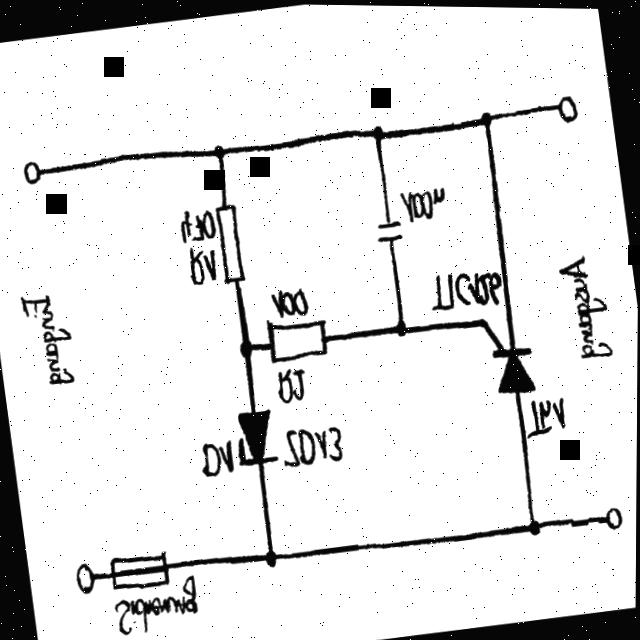capacitor: (373, 215, 407, 246)
diode: (231, 405, 281, 468)
junction: (237, 336, 255, 358), (393, 315, 410, 338), (263, 546, 279, 569), (526, 514, 543, 535), (478, 107, 494, 127), (212, 142, 227, 160), (369, 123, 384, 141)
resistor: (264, 313, 331, 364), (212, 200, 249, 286)
terminal: (72, 558, 100, 597), (554, 88, 581, 124), (602, 500, 628, 532), (19, 158, 44, 188)
text: (556, 249, 616, 361), (18, 288, 79, 390), (111, 571, 204, 637), (425, 262, 504, 312), (279, 420, 346, 470), (397, 181, 450, 224), (521, 392, 569, 438), (197, 436, 237, 479), (177, 204, 218, 245), (185, 243, 220, 286), (274, 364, 310, 405), (269, 284, 310, 319)
thyristor: (480, 309, 538, 396)
